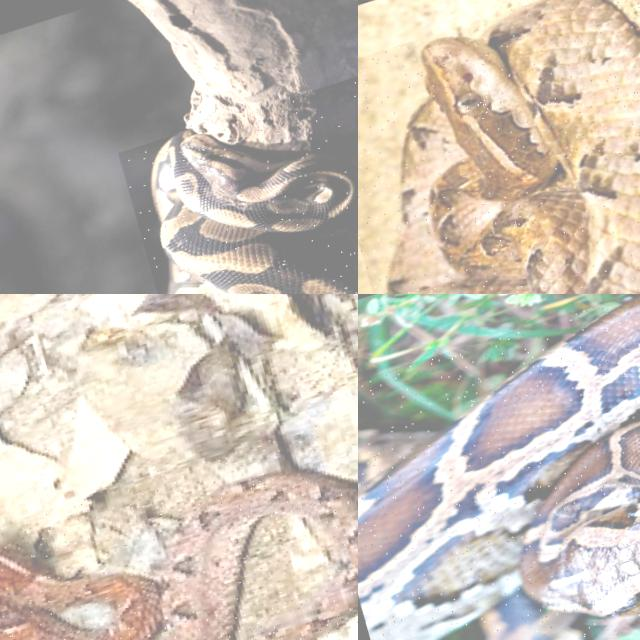Calloselasma rhodostoma: (388, 0, 639, 293), (0, 471, 357, 639)
Python bivittatus: (358, 297, 639, 639), (152, 131, 357, 293)
